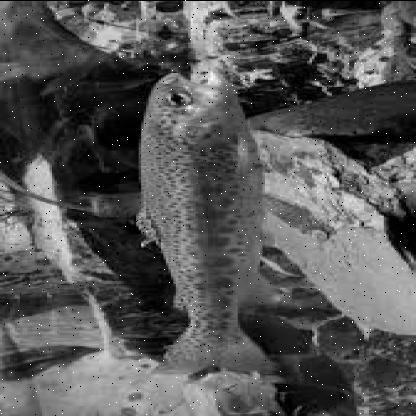fish: (132, 64, 276, 380)
